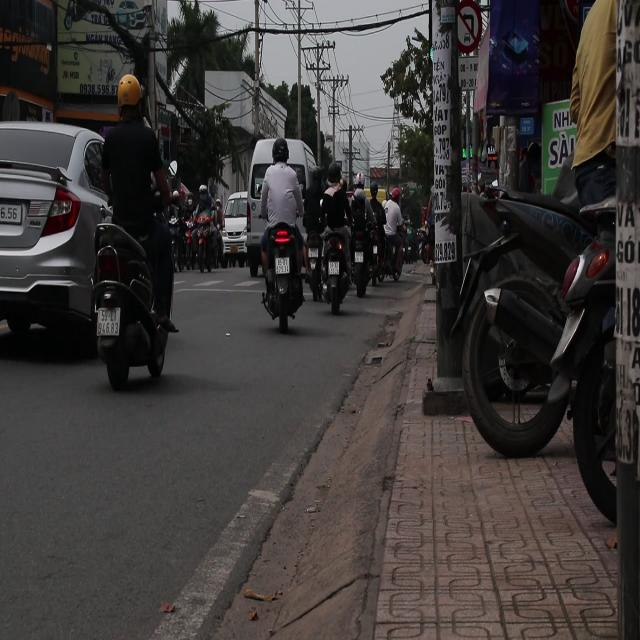car: (0, 118, 119, 363), (250, 136, 321, 220), (220, 192, 255, 268)
motorbike: (92, 219, 167, 389), (260, 220, 310, 334), (311, 226, 354, 313)
